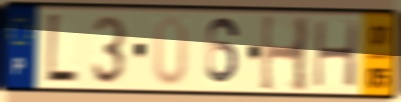0: (151, 13, 191, 89)
3: (90, 14, 129, 86)
6: (205, 15, 241, 89)
H: (259, 12, 313, 95), (311, 18, 361, 90)
L: (44, 9, 81, 87)
